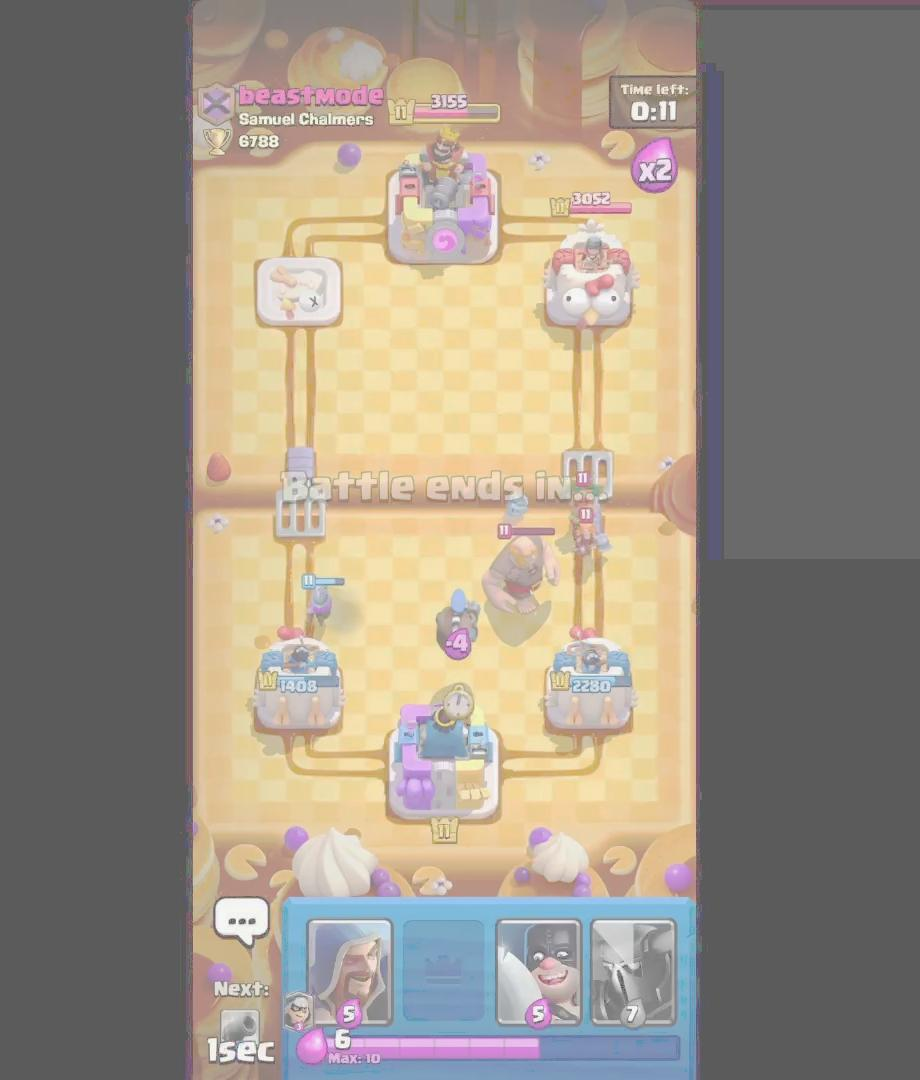Dart Goblin: (564, 471, 604, 512)
Giant: (479, 525, 562, 625)
Valkyrie: (572, 509, 608, 561)
